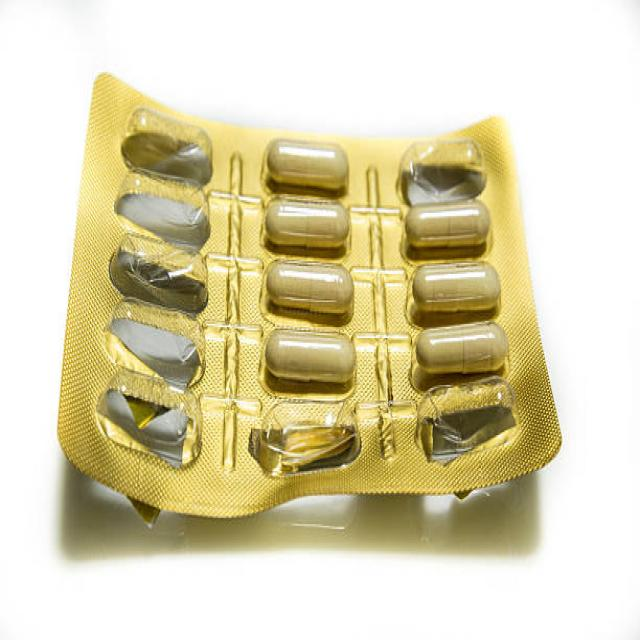Empty: (407, 383, 528, 468), (90, 377, 201, 468), (106, 162, 218, 246), (253, 398, 372, 476), (120, 96, 222, 186), (98, 303, 206, 386), (391, 132, 503, 206), (108, 226, 210, 307)
Pill: (255, 323, 367, 395), (258, 256, 361, 323), (398, 254, 509, 316), (391, 203, 506, 262), (404, 322, 517, 381), (258, 192, 358, 256), (260, 130, 354, 193)
